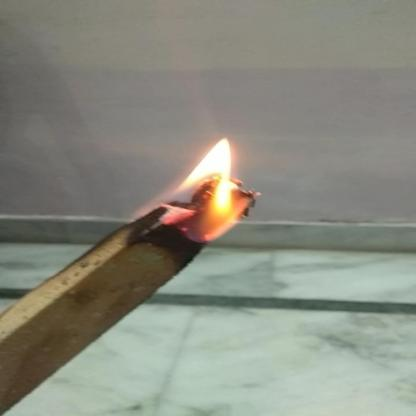fire: (136, 130, 279, 244)
